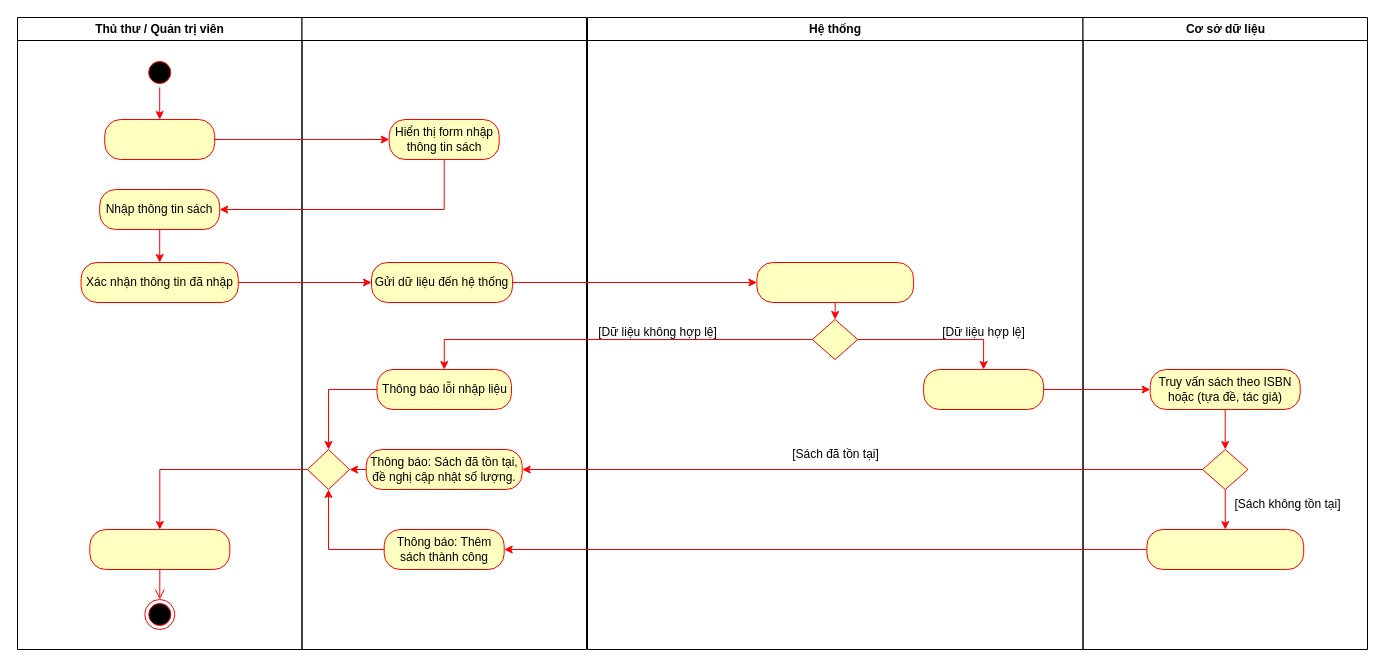
Some shapes in this 1385 by 667 pixel diagram are drawn without their labels. Each missing label, with the box of its shape:
Chọn chức năng Thêm sách: (104, 118, 215, 160)
Giao diện người dùng: (301, 16, 586, 650)
Gửi yêu cầu kiểm tra trùng sách: (923, 368, 1044, 410)
INSERT sách mới vào database: (1146, 528, 1304, 570)
Kiểm tra tính hợp lệ dữ liệu: (756, 262, 914, 302)
Nhận thông báo kết quả: (89, 528, 230, 570)
